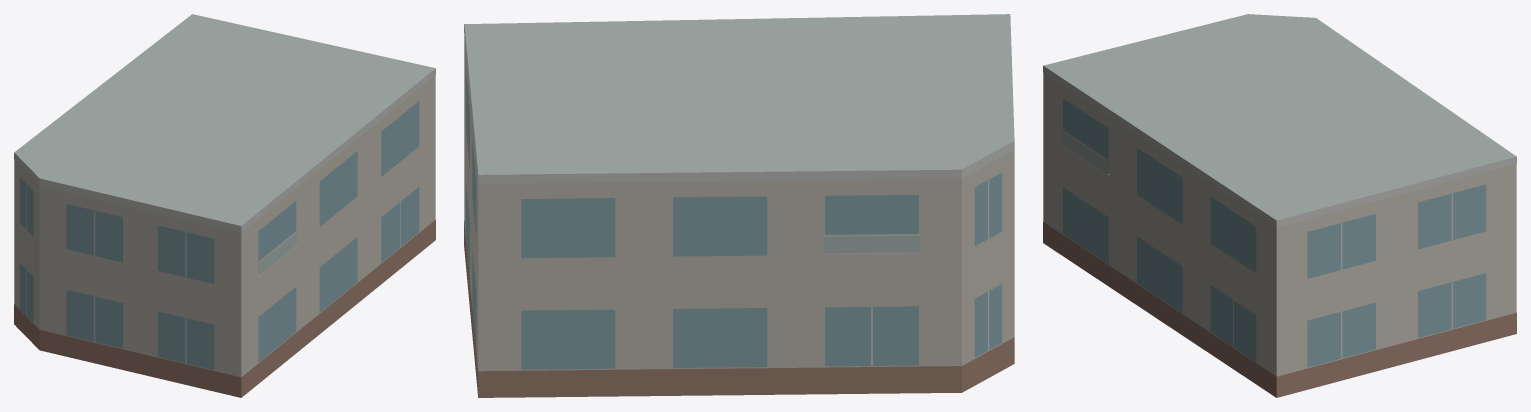
Rendered from survey-upis-32925661.glb.
3 renders of one model, left to right at view 1: azimuth 30°, elevation 25°; view 2: azimuth 150°, elevation 25°; view 3: azimuth 270°, elevation 25°, orthographic. The views are drawn at different scales.
Parts seen in each view (by area): view 1: survey-upis-32925661.tmp; view 2: survey-upis-32925661.tmp; view 3: survey-upis-32925661.tmp.
Boxes of the visible parts, x1,y1,x2,y2 form: survey-upis-32925661.tmp: [14, 14, 435, 397]; survey-upis-32925661.tmp: [464, 14, 1014, 397]; survey-upis-32925661.tmp: [1043, 14, 1516, 397].
Size of the model in its own units: 15.24 by 6.1 by 14.77.
